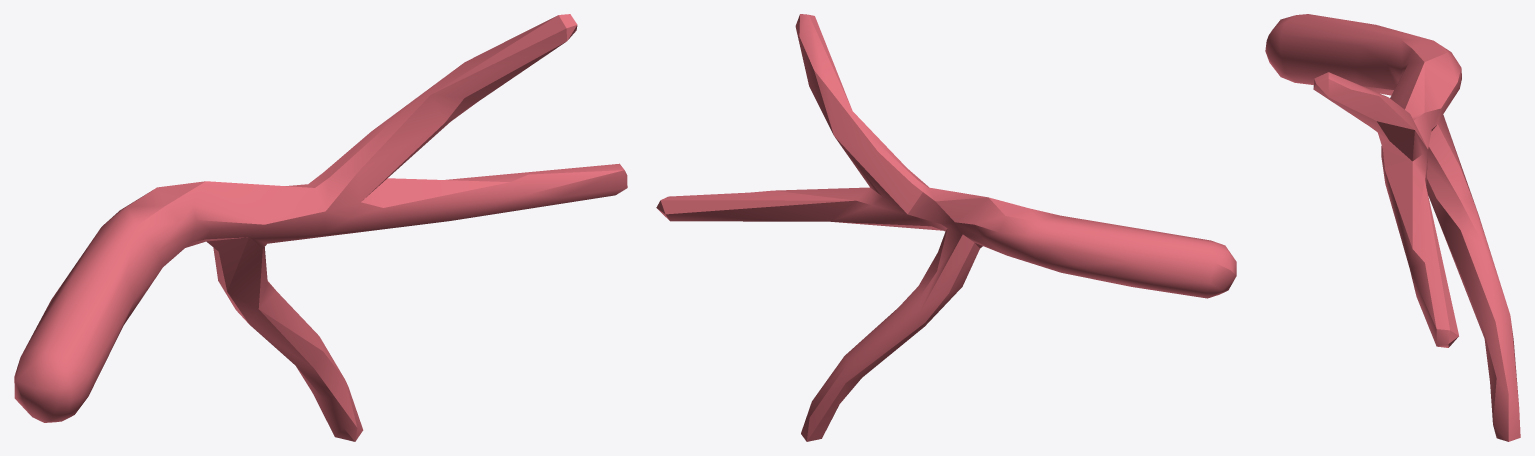
The model's file is fma75908_fj5070.glb.
The picture shows the model from 3 angles, left to right: view 1: azimuth 30°, elevation 25°; view 2: azimuth 150°, elevation 25°; view 3: azimuth 270°, elevation 25°; orthographic projection. The views are drawn at different scales.
Parts seen in each view (by area): view 1: FMA75908_FJ5070; view 2: FMA75908_FJ5070; view 3: FMA75908_FJ5070.
Part boxes in pixels (left/top/right/bottom): FMA75908_FJ5070: left=14, top=14, right=627, bottom=441; FMA75908_FJ5070: left=656, top=14, right=1236, bottom=441; FMA75908_FJ5070: left=1265, top=14, right=1520, bottom=441.
Size of the model in its own units: 0.0117 by 0.00757 by 0.00425.
